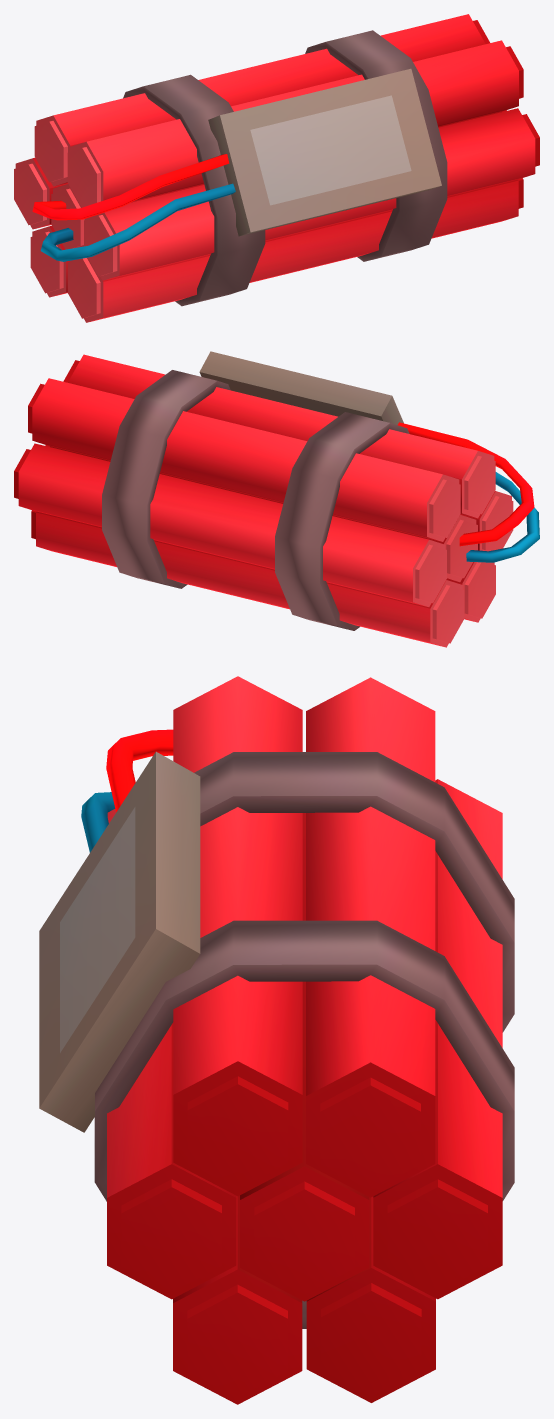
File: Dynamite.glb
3 renders of one model, top to bottom at view 1: azimuth 30°, elevation 25°; view 2: azimuth 150°, elevation 25°; view 3: azimuth 270°, elevation 25°, orthographic. The views are drawn at different scales.
Parts seen in each view (by area): view 1: dynamite_atlas_0; view 2: dynamite_atlas_0; view 3: dynamite_atlas_0.
Part boxes in pixels (left/top/right/bottom): dynamite_atlas_0: left=14, top=14, right=539, bottom=322; dynamite_atlas_0: left=14, top=351, right=539, bottom=647; dynamite_atlas_0: left=39, top=676, right=514, bottom=1404.
Size of the model in its own units: 0.6824 by 0.2766 by 0.3121.
1 material, 1 textured.
